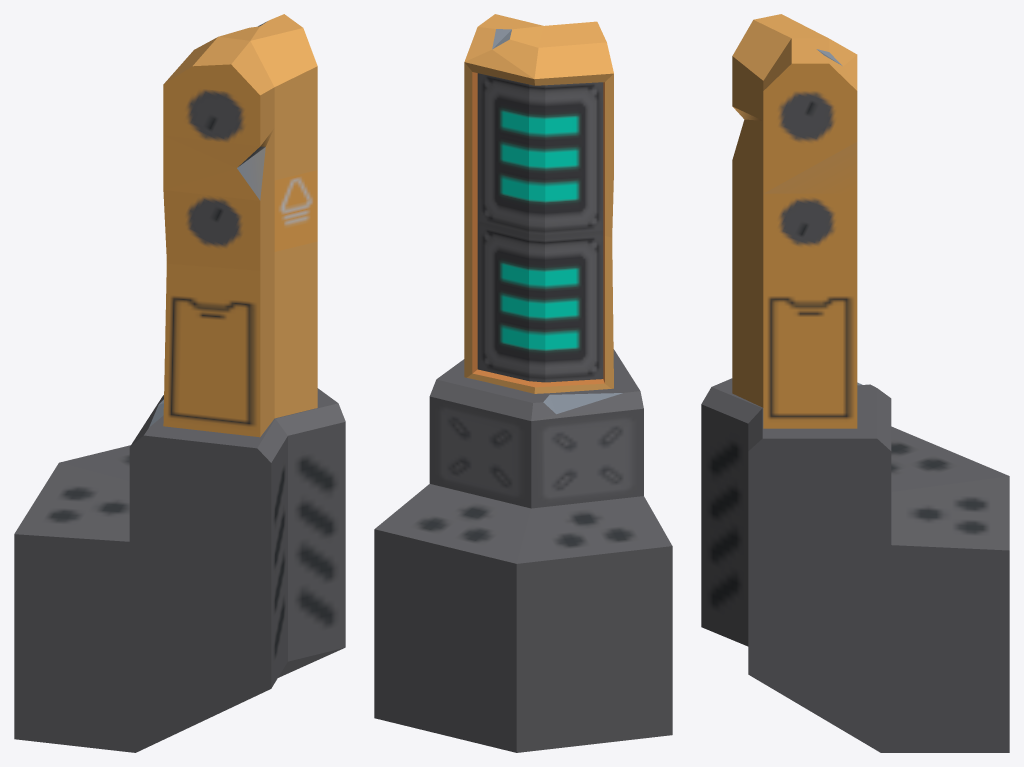
Rendered from SM_Bld_Railing_Pillar_45_Corner_Outer_01.fbx.
The picture shows the model from 3 angles, left to right: view 1: azimuth 30°, elevation 25°; view 2: azimuth 150°, elevation 25°; view 3: azimuth 270°, elevation 25°; orthographic projection. The views are drawn at different scales.
Parts seen in each view (by area): view 1: SM_Bld_Railing_Pillar_45_Corner_Outer_01; view 2: SM_Bld_Railing_Pillar_45_Corner_Outer_01; view 3: SM_Bld_Railing_Pillar_45_Corner_Outer_01.
Boxes of the visible parts, x1,y1,x2,y2 form: SM_Bld_Railing_Pillar_45_Corner_Outer_01: (14,14,345,752); SM_Bld_Railing_Pillar_45_Corner_Outer_01: (374,14,672,752); SM_Bld_Railing_Pillar_45_Corner_Outer_01: (701,14,1009,752).
Bounding box in the file's own units: 62.73 × 158 × 64.94.
